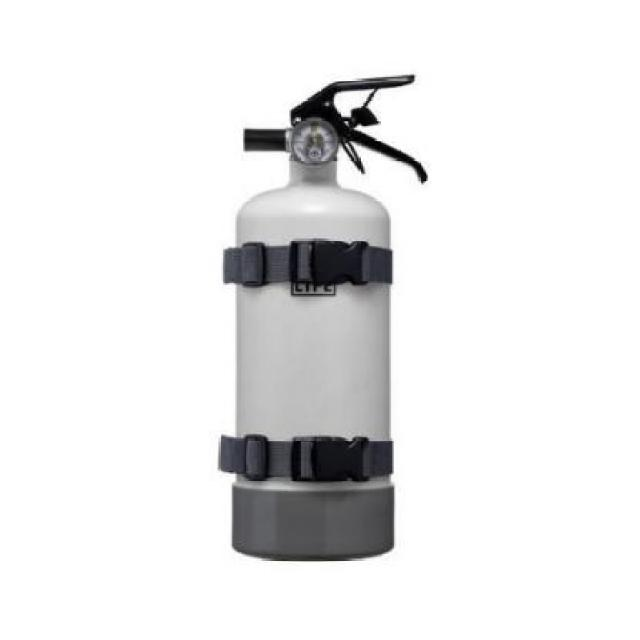fire extinguisher: (223, 75, 429, 561)
